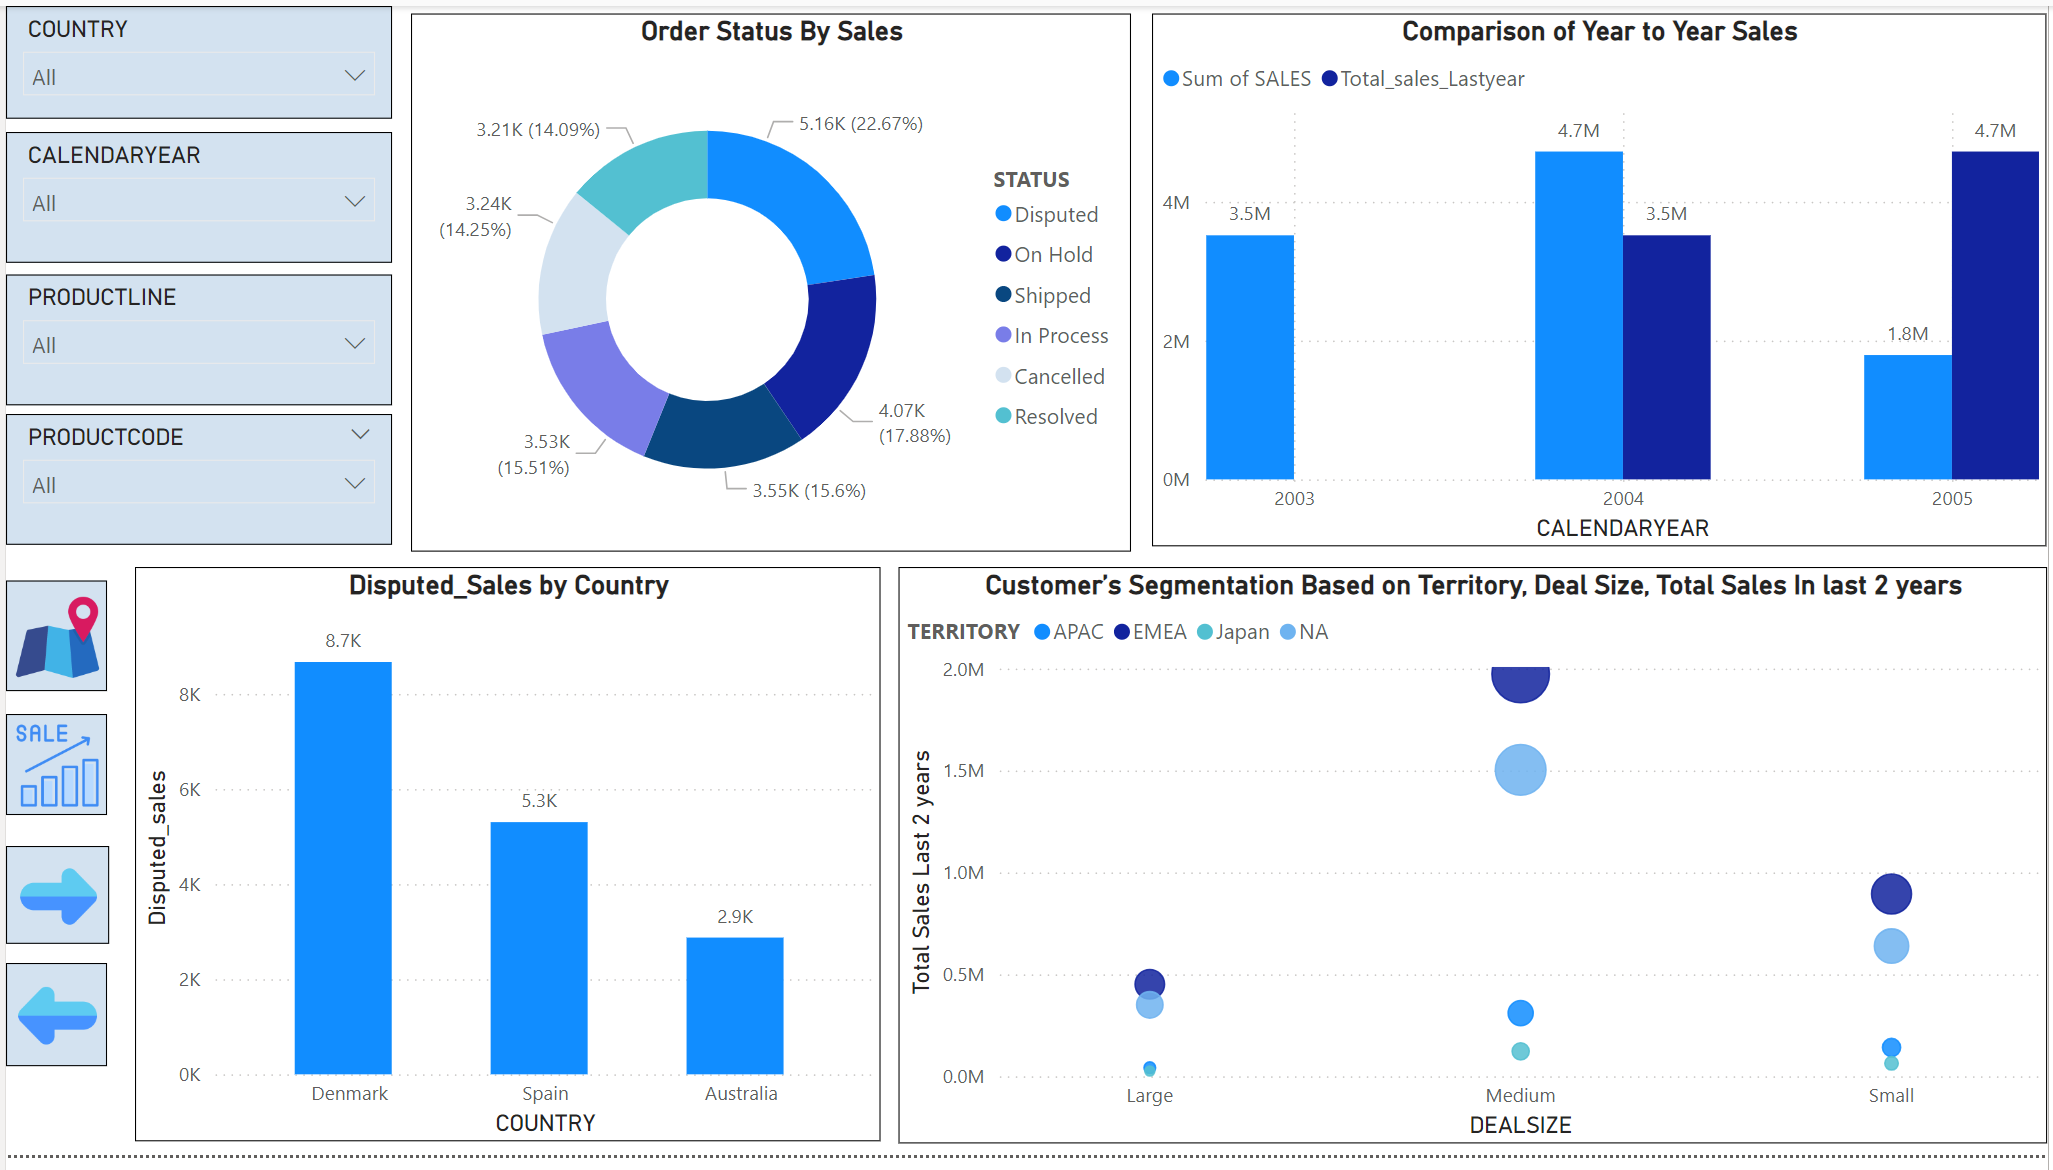

What the dashboard file says about the page in this screenshot:
{"tool":"powerbi","page":{"name":"Custom KPI","canvas":[1280,720],"ordinal":1},"visuals":[{"type":"clusteredColumnChart","title":"Comparison of Year to Year Sales","fields":{"Category":["DimDate.CALENDARYEAR"],"Y":["Sum(Fact_Table.SALES)","DimCUSTOMER.Total_sales_Lastyear"]},"box":[718.8,4.9,560.4,334],"z":0},{"type":"donutChart","title":"Order Status By Sales","fields":{"Category":["DimSTATUS.STATUS"],"Y":["Avg(Fact_Table.SALES)"]},"box":[254.3,4.6,451.5,337.5],"z":1000},{"type":"clusteredColumnChart","title":"Disputed_Sales by Country","fields":{"Category":["DimCountry.COUNTRY"],"Y":["DimSTATUS.Disputed_sales_kpi"]},"box":[80.4,351.3,467.6,360],"z":2000},{"type":"scatterChart","title":"Customer’s Segmentation Based on Territory, Deal Size, Total Sales In last 2 years","fields":{"X":["DimDEALSIZE.DEALSIZE"],"Series":["DimCountry.TERRITORY"],"Y":["DimCUSTOMER.Last2years_Sales"],"Size":["DimCUSTOMER.Last2years_Sales"]},"box":[559.2,351.3,720,361.2],"z":3000},{"type":"image","box":[0,360.6,63.2,69.3],"z":4000},{"type":"image","box":[0,443.8,63.2,63.2],"z":5000},{"type":"image","box":[0,527,64.7,61.6],"z":6000},{"type":"image","box":[0,599.4,63.2,64.7],"z":7000},{"type":"slicer","fields":{"Values":["DimCountry.COUNTRY"]},"box":[0,0,241.9,70.9],"z":8000},{"type":"slicer","fields":{"Values":["DimDate.CALENDARYEAR"]},"box":[0,78.6,241.9,81.7],"z":9000},{"type":"slicer","fields":{"Values":["DimPRODUCTLINE.PRODUCTLINE"]},"box":[0,168,241.9,81.7],"z":10000},{"type":"slicer","fields":{"Values":["DimProductCode.PRODUCTCODE"]},"box":[0,255.8,241.9,81.7],"z":11000}]}

Visuals, with their boxes in screenshot pixels (x1, y1, x2, y2), scaled from the page's 1280x720 canvas onto the 2053x1170 screenshot:
"Comparison of Year to Year Sales" clusteredColumnChart: 1153:8:2052:551
"Order Status By Sales" donutChart: 408:7:1132:556
"Disputed_Sales by Country" clusteredColumnChart: 129:571:879:1156
"Customer’s Segmentation Based on Territory, Deal Size, Total Sales In last 2 years" scatterChart: 897:571:2052:1158
image: 0:586:101:699
image: 0:721:101:824
image: 0:856:104:956
image: 0:974:101:1079
slicer - DimCountry.COUNTRY: 0:0:388:115
slicer - DimDate.CALENDARYEAR: 0:128:388:260
slicer - DimPRODUCTLINE.PRODUCTLINE: 0:273:388:406
slicer - DimProductCode.PRODUCTCODE: 0:416:388:548
